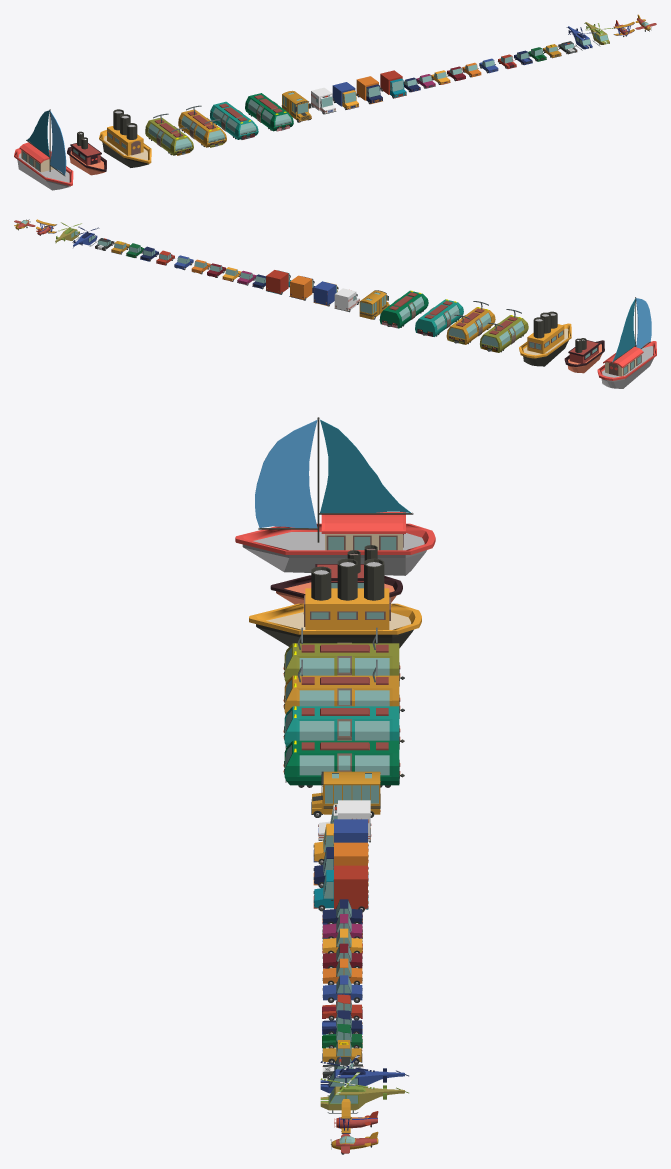
Rendered from Vehicles.fbx.
3 views of the same model, one above another, from view 1: azimuth 30°, elevation 25°; view 2: azimuth 150°, elevation 25°; view 3: azimuth 270°, elevation 25° (orthographic). The views are drawn at different scales.
Parts seen in each view (by area): view 1: Boat_1, Boat_3, Tram_2, Tram_1, Train_1, Train_2, Boat_2, Bus, Truck_2, Truck_1, Truck_3, Ambulance (+2 smaller); view 2: Boat_1, Boat_3, Tram_2, Tram_1, Train_1, Train_2, Boat_2, Bus, Truck_2, Truck_3, Truck_1, Ambulance; view 3: Boat_1, Boat_3, Train_1, Train_2, Tram_2, Tram_1, Bus, Truck_3, Boat_2, Truck_1, Truck_2, Helicopter_2 (+1 smaller).
Boxes of the visible parts, x1,y1,x2,y2 form: Boat_1: [14, 109, 73, 190]; Boat_3: [99, 109, 151, 167]; Tram_2: [145, 113, 193, 155]; Tram_1: [178, 105, 226, 147]; Train_1: [245, 93, 293, 131]; Train_2: [210, 101, 258, 139]; Boat_2: [67, 131, 106, 175]; Bus: [281, 90, 311, 122]; Truck_2: [356, 76, 382, 104]; Truck_1: [332, 82, 358, 109]; Truck_3: [380, 70, 406, 98]; Ambulance: [311, 87, 336, 114]; Boat_1: [597, 297, 656, 388]; Boat_3: [519, 311, 571, 366]; Tram_2: [480, 309, 528, 352]; Tram_1: [446, 301, 495, 344]; Train_1: [379, 290, 428, 328]; Train_2: [415, 299, 463, 336]; Boat_2: [564, 338, 604, 373]; Bus: [359, 290, 389, 319]; Truck_2: [289, 275, 315, 300]; Truck_3: [266, 270, 291, 294]; Truck_1: [313, 281, 338, 306]; Ambulance: [334, 288, 359, 312]; Boat_1: [235, 417, 435, 575]; Boat_3: [249, 558, 421, 648]; Train_1: [284, 740, 399, 787]; Train_2: [284, 705, 399, 746]; Tram_2: [284, 627, 399, 682]; Tram_1: [284, 659, 399, 714]; Bus: [311, 771, 380, 817]; Truck_3: [313, 865, 368, 911]; Boat_2: [270, 545, 402, 604]; Truck_1: [313, 819, 368, 864]; Truck_2: [313, 842, 368, 888]; Helicopter_2: [320, 1085, 408, 1113].
Size of the model in its own units: 220 by 24.68 by 30.41.
